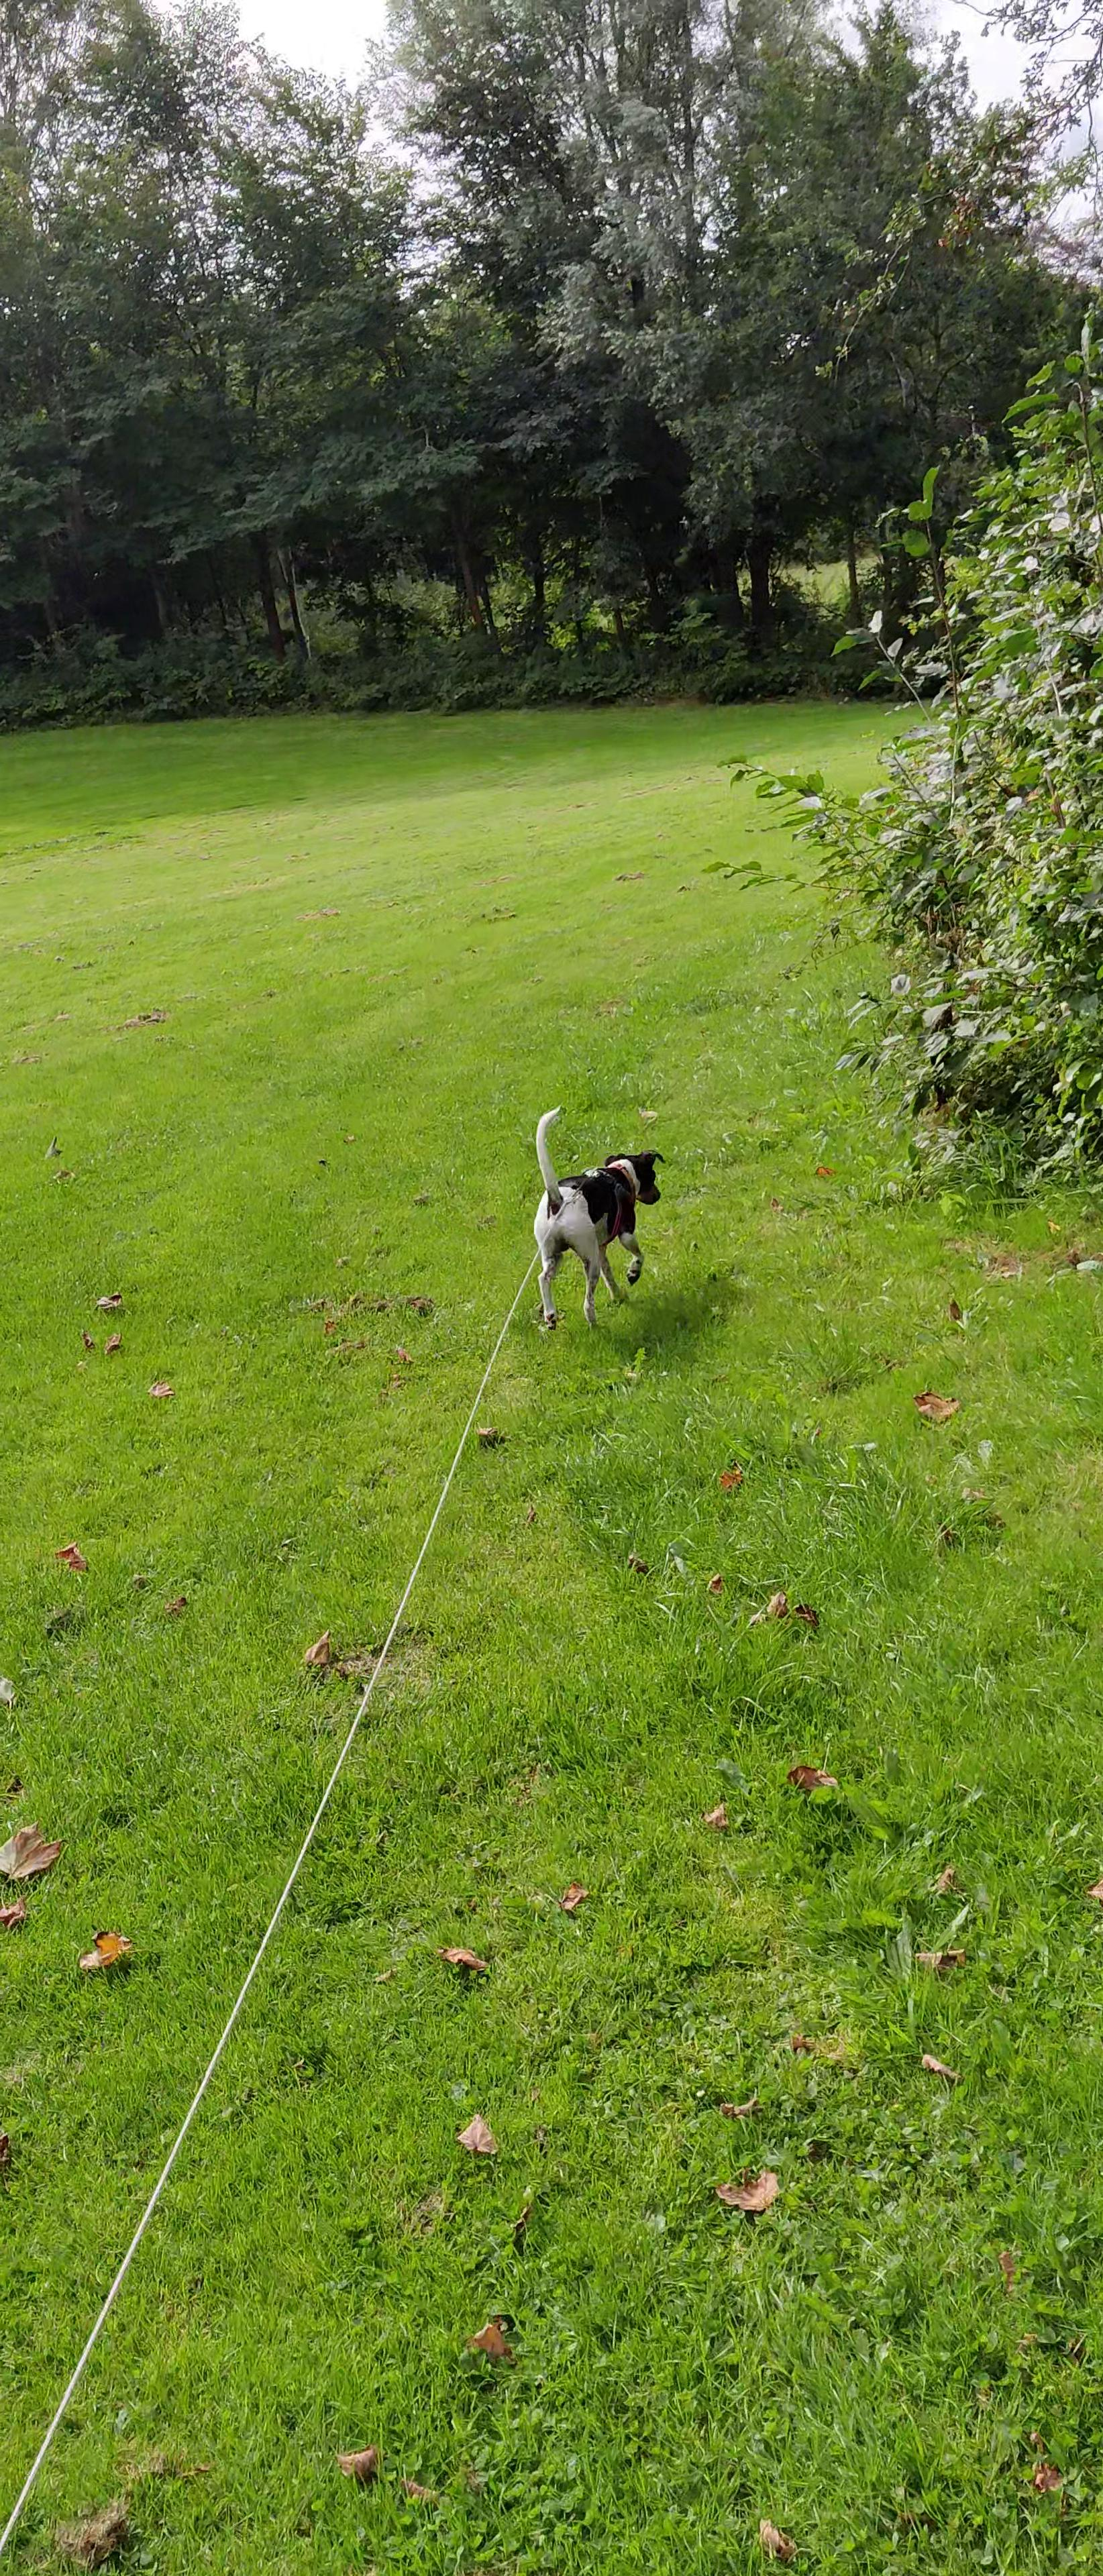Dog: (528, 1102, 672, 1339)
